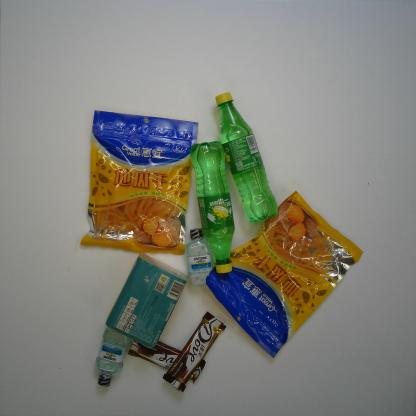Chocolate: (162, 311, 227, 393), (127, 336, 206, 384)
Dried Fruit: (205, 190, 363, 359), (79, 109, 199, 255)
Drink: (214, 91, 278, 224), (189, 139, 236, 275)
Personal Hygiene: (94, 326, 134, 388), (185, 228, 213, 286)
Tissue: (104, 252, 188, 350)
